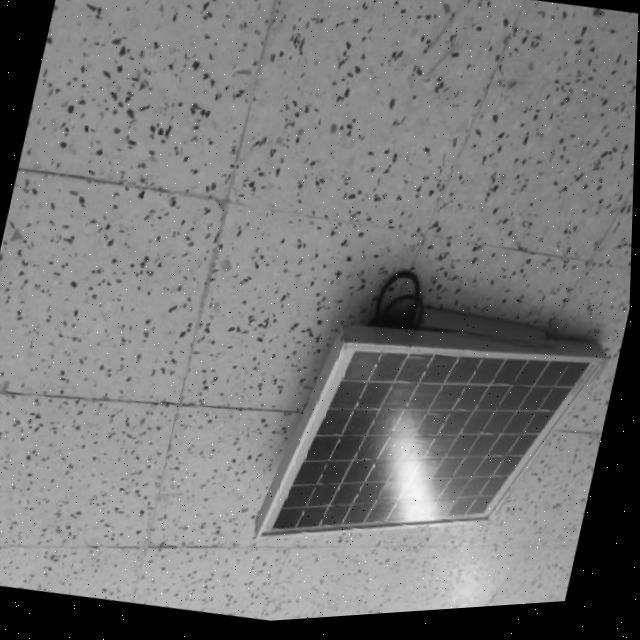Normal Solar Panel: (258, 308, 611, 601)
